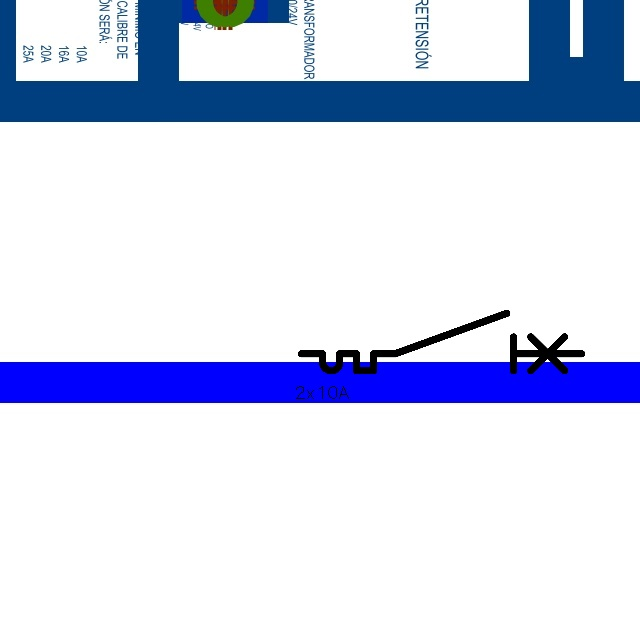interruptor_termomagnetico: (294, 306, 589, 378)
